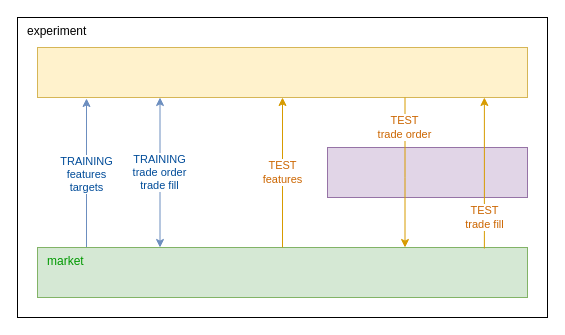
Some shapes in this 565 by 335 pixel diagram are drawn without their labels. Each missing label, with the box of its shape:
agent: (36, 46, 528, 98)
journal: (326, 146, 528, 198)
